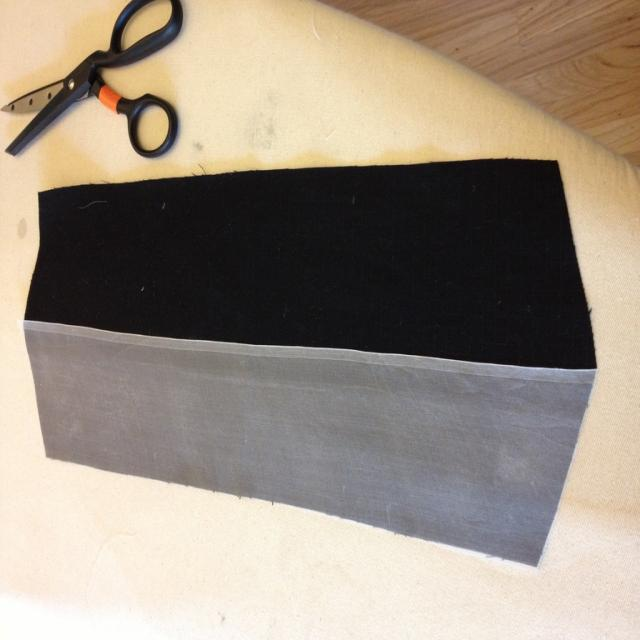scissors: (0, 0, 182, 158)
